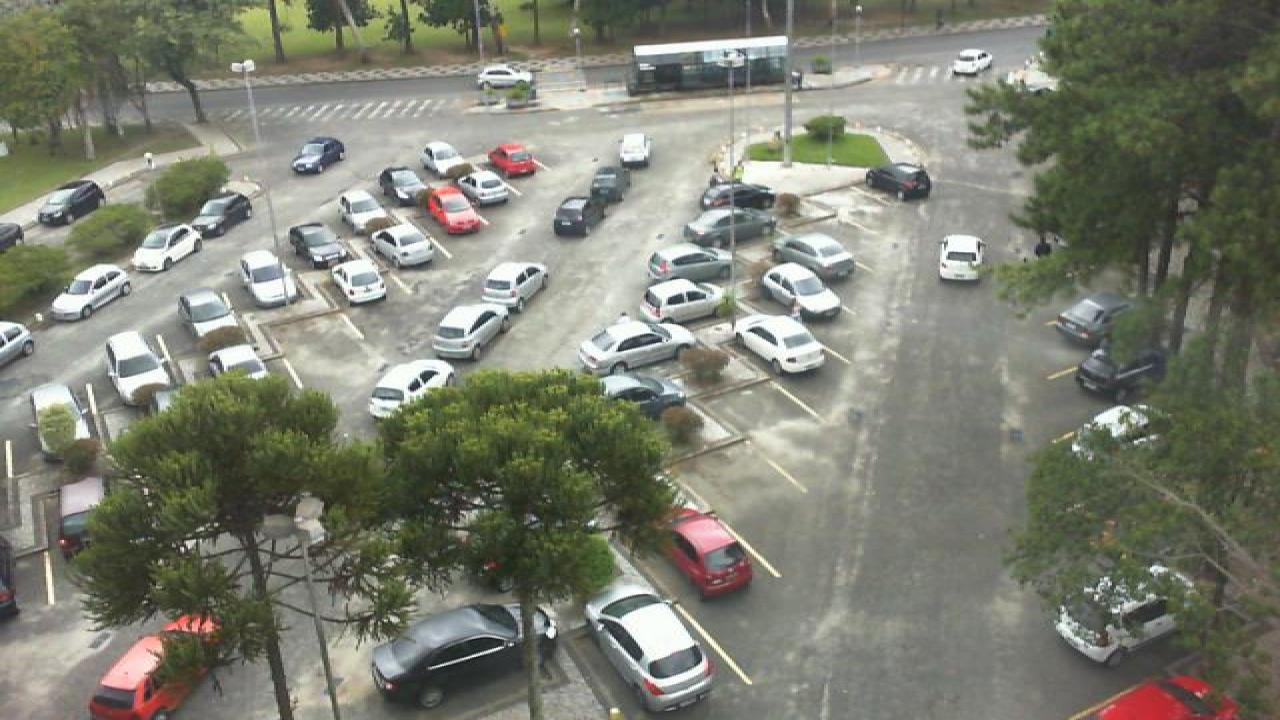Car: (368, 600, 564, 711), (584, 585, 718, 711), (86, 612, 224, 720), (1054, 562, 1174, 662), (664, 506, 754, 600), (1090, 674, 1246, 720), (578, 320, 700, 374), (102, 331, 186, 408), (730, 312, 828, 374), (26, 382, 98, 466), (174, 289, 256, 358), (368, 360, 458, 421), (760, 262, 846, 321), (48, 262, 132, 321), (1052, 291, 1136, 349), (1074, 347, 1164, 400), (428, 304, 512, 360), (638, 277, 734, 323), (592, 374, 688, 420), (768, 232, 856, 280), (646, 240, 738, 284), (128, 223, 208, 273), (238, 249, 300, 308), (34, 178, 108, 226), (682, 205, 778, 242), (480, 261, 550, 311), (290, 220, 356, 270), (368, 222, 438, 268), (330, 253, 390, 305), (204, 340, 274, 384), (426, 186, 488, 234), (864, 161, 936, 200), (338, 188, 396, 233), (698, 181, 774, 214), (936, 233, 984, 282), (290, 136, 346, 176), (376, 166, 432, 202), (460, 170, 516, 205), (488, 142, 540, 178), (586, 166, 632, 206), (420, 141, 466, 179), (550, 197, 592, 238), (0, 319, 34, 368), (614, 132, 654, 172), (474, 64, 534, 90), (948, 48, 994, 76)
